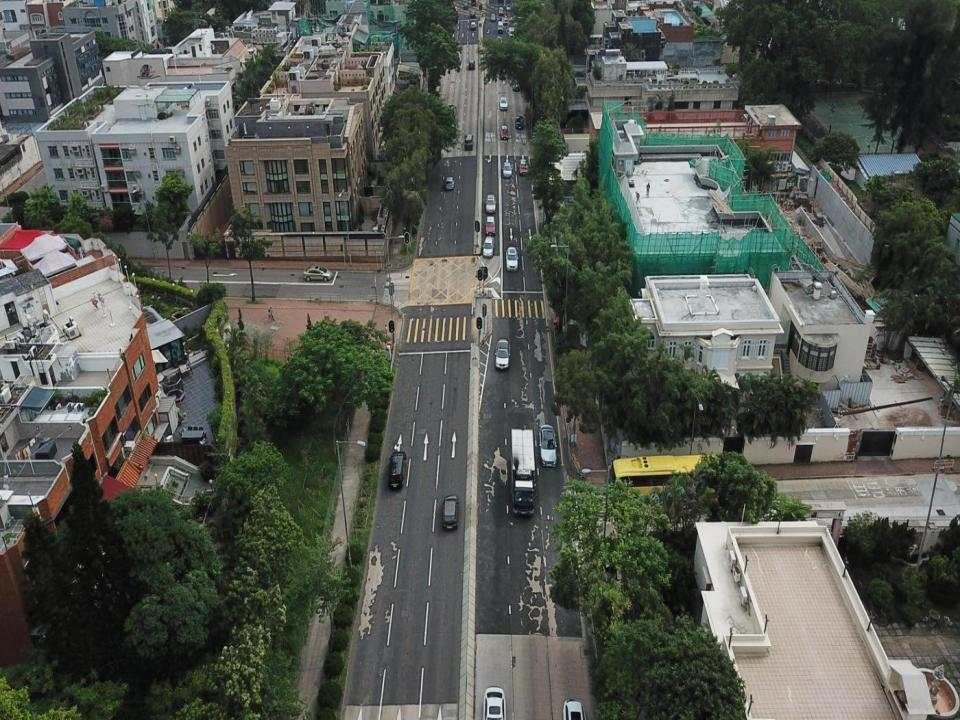bus: (607, 455, 717, 507)
car: (539, 423, 558, 469), (482, 686, 506, 719), (302, 265, 332, 282), (562, 698, 586, 719), (494, 340, 510, 371), (505, 246, 519, 271), (482, 234, 494, 257), (484, 194, 496, 211), (519, 156, 529, 176), (499, 124, 510, 141), (485, 214, 494, 234), (502, 160, 512, 178), (498, 95, 507, 111), (446, 174, 454, 191), (512, 74, 520, 91), (516, 115, 524, 131), (496, 37, 504, 50), (467, 58, 475, 70), (507, 25, 514, 36), (501, 14, 508, 23), (471, 21, 477, 29), (470, 9, 475, 18), (498, 6, 503, 15), (490, 13, 495, 20), (464, 1, 469, 8)
truck: (511, 427, 536, 517)
van: (388, 451, 406, 490), (442, 494, 458, 531), (464, 134, 473, 150), (497, 18, 504, 32)
